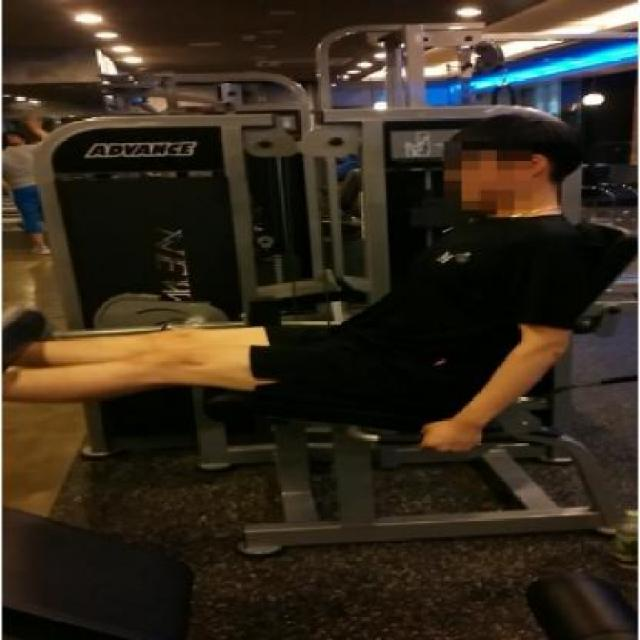leg extension: (0, 57, 640, 563)
